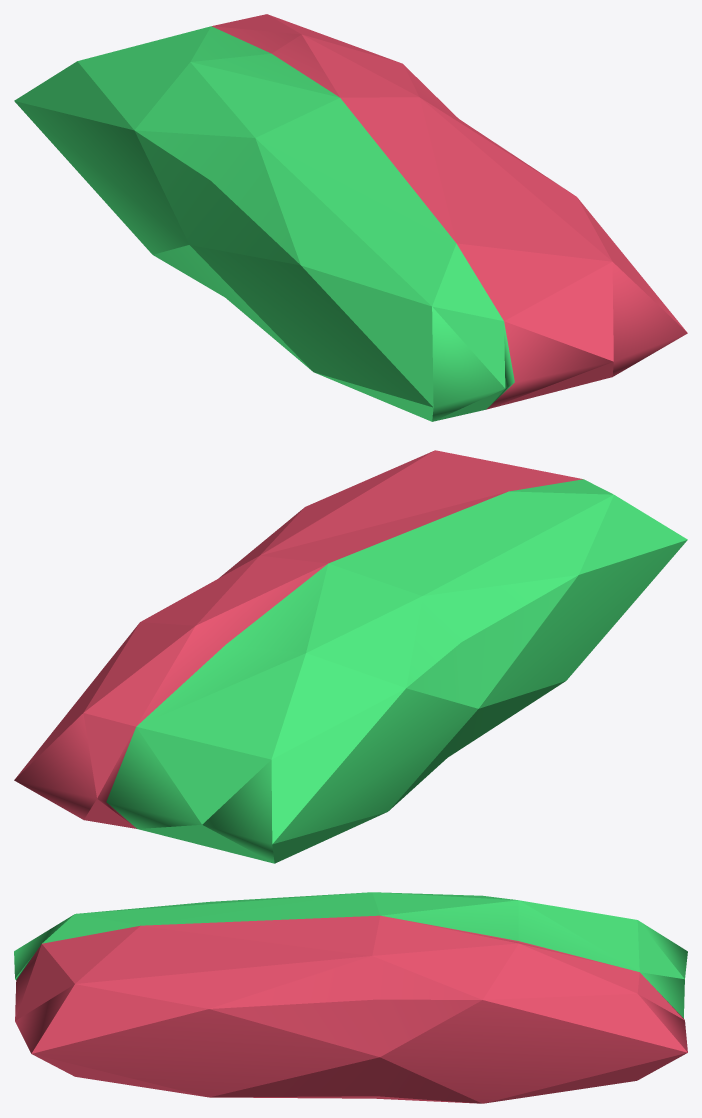
Rendered from Snack8.fbx.
The picture shows the model from 3 angles, top to bottom: view 1: azimuth 30°, elevation 25°; view 2: azimuth 150°, elevation 25°; view 3: azimuth 270°, elevation 25°; orthographic projection. The views are drawn at different scales.
Parts seen in each view (by area): view 1: Snack8; view 2: Snack8; view 3: Snack8.
Part boxes in pixels (x1=…): Snack8: x1=14, y1=14, x2=687, y2=421; Snack8: x1=14, y1=450, x2=687, y2=863; Snack8: x1=14, y1=892, x2=687, y2=1103.
Bounding box in the file's own units: 11.46 × 7.82 × 28.75.
